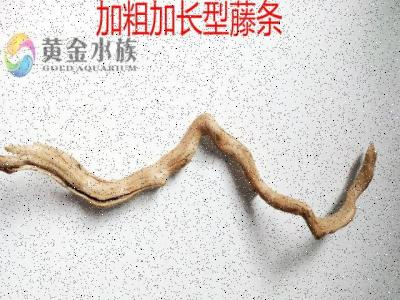Root: (0, 114, 376, 238)
